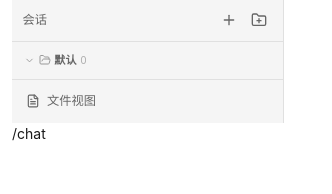
SessionList › clicking top 新建会话 clears pending workspace, navigates to /chat and shows placeholder
Click the button named "新建会话": (229, 20) top-left (216, 7), bottom-right (242, 34)
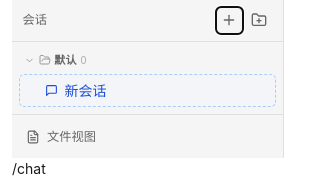
Expected: the text with test id "location-display" reads "/chat", top-left (12, 160), bottom-right (46, 177)
Expected: the button "新会话" is shown, top-left (19, 74), bottom-right (276, 107)
